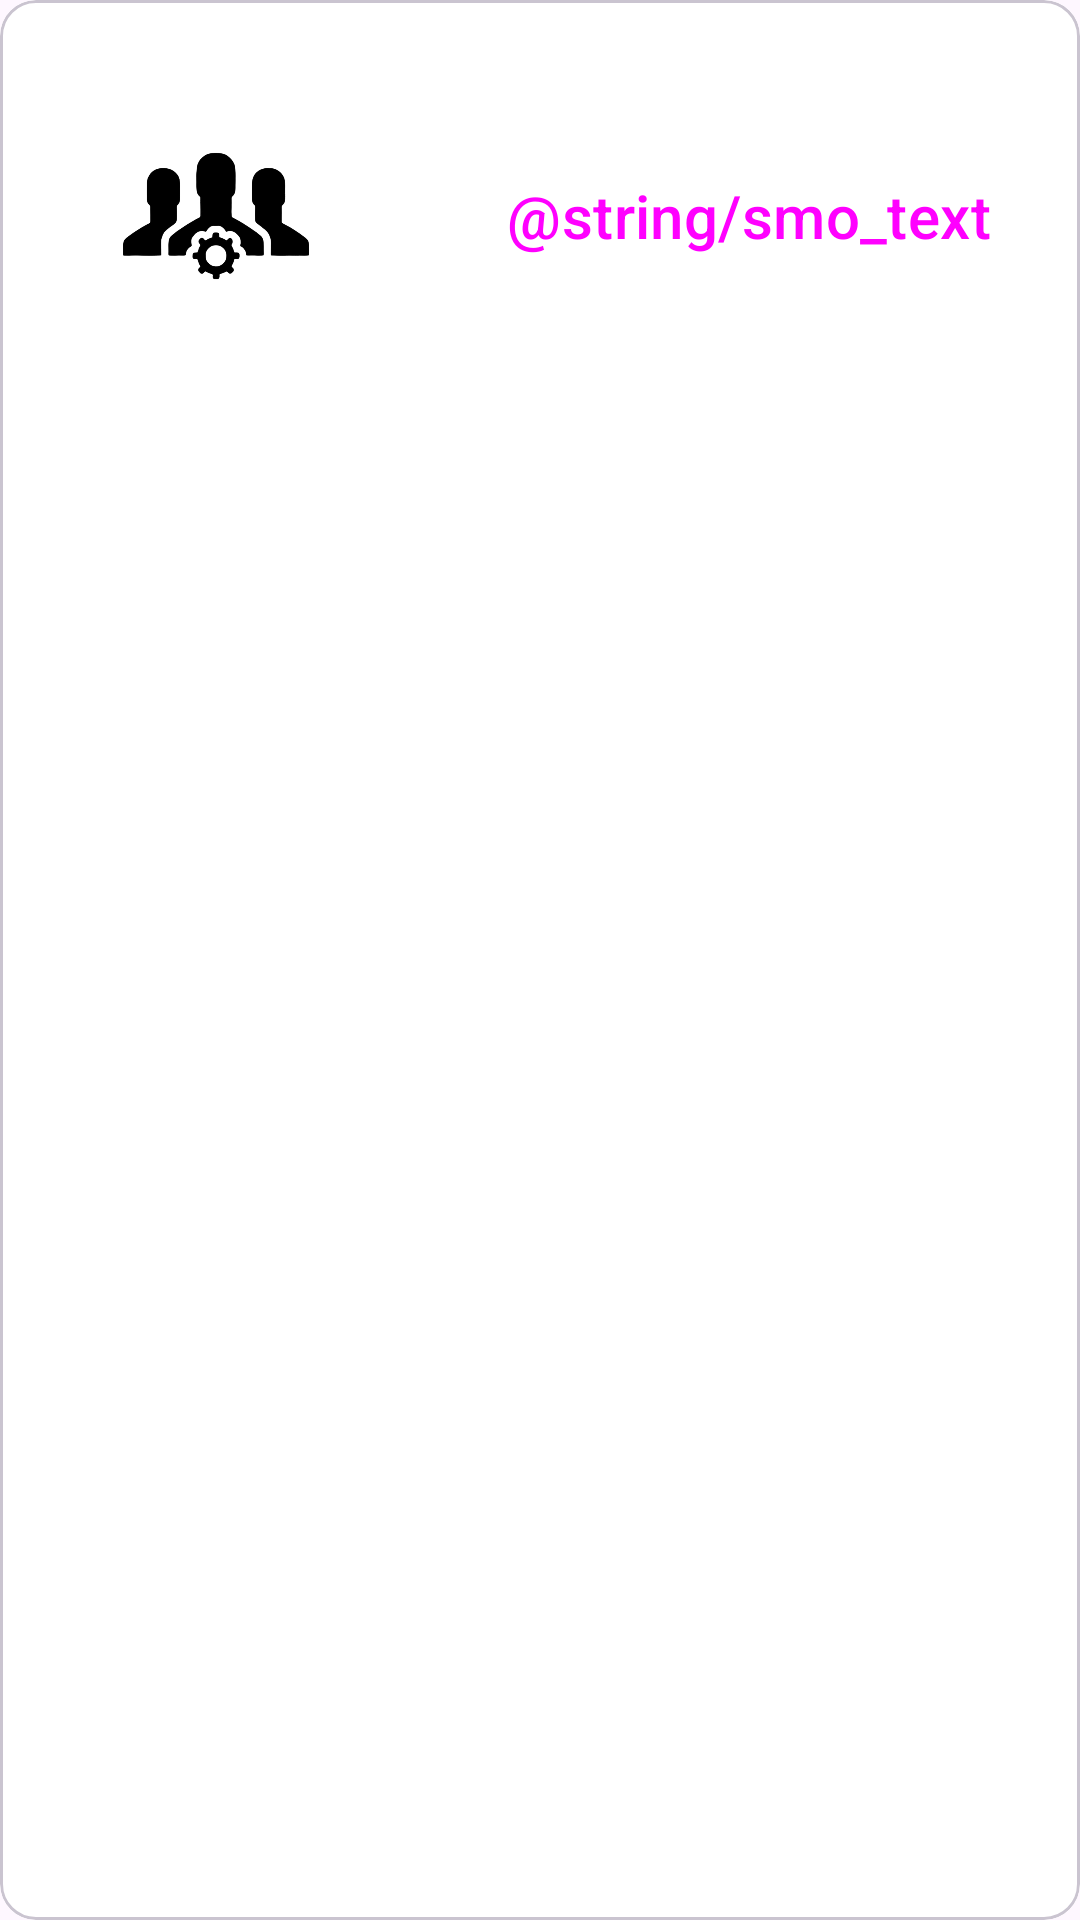

Point at icon controls on the screen. Image size 1080px x 1920px, points as (x=x, y=y).
iconequipo: (x=216, y=216)
